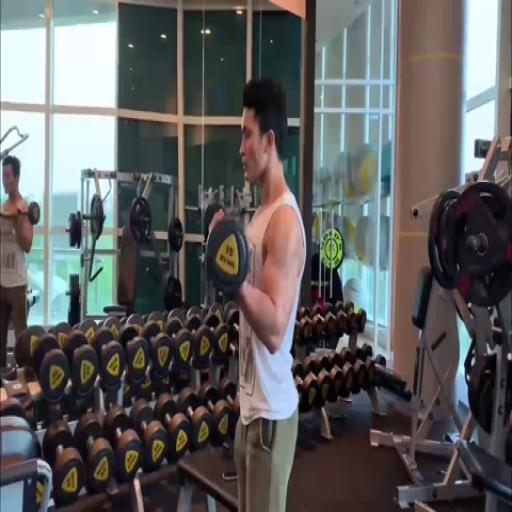exercise: (204, 76, 309, 510), (0, 152, 38, 382)
